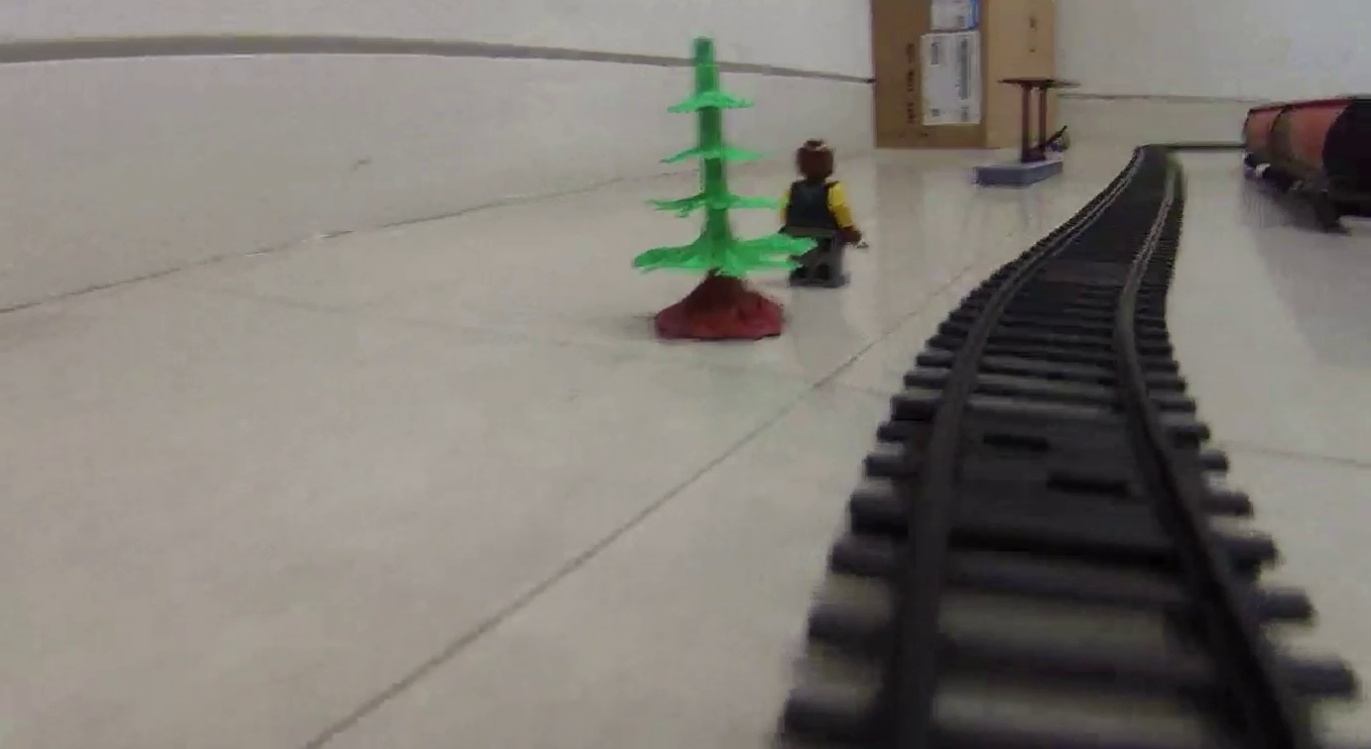people: (782, 138, 859, 289)
tree: (630, 37, 794, 340)
